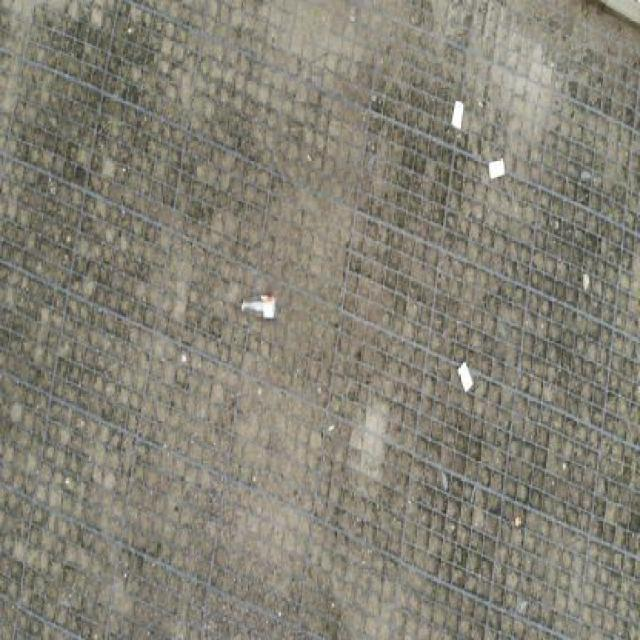Garbage: (240, 293, 278, 319), (456, 360, 474, 394), (487, 158, 506, 182), (450, 100, 464, 130), (515, 516, 519, 524)
